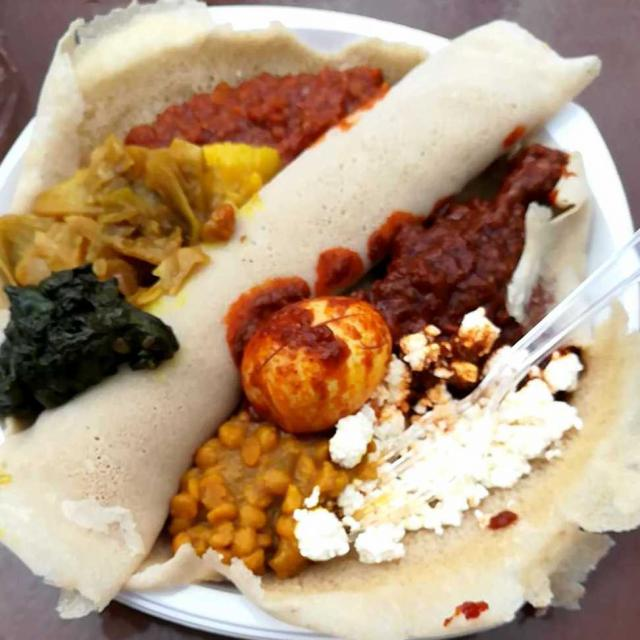beef: (273, 139, 537, 366)
cottage-cheese: (292, 306, 593, 582)
crepe-plain: (7, 14, 626, 622)
egg: (228, 290, 393, 434)
leaf-spinach: (7, 270, 222, 430)
lentils: (177, 413, 335, 603)
mixed-vegetables: (9, 115, 274, 309)
sauce-savoury: (186, 133, 562, 560)
tomato-sauce: (135, 82, 391, 162)
